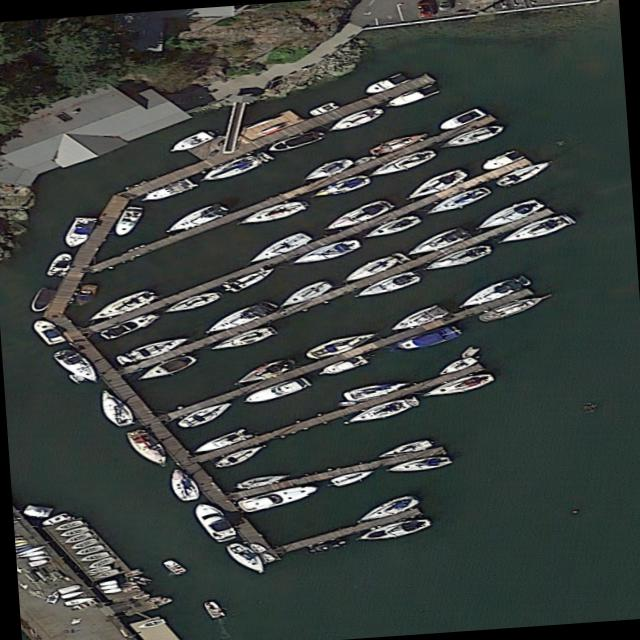ship: (194, 149, 277, 185), (452, 275, 536, 310), (339, 394, 426, 427), (318, 198, 396, 234), (198, 300, 278, 335), (79, 289, 158, 324), (496, 212, 577, 246), (471, 197, 547, 232), (112, 333, 192, 366), (302, 328, 380, 361), (476, 291, 556, 323), (236, 482, 321, 512), (399, 168, 471, 203), (364, 147, 440, 180), (417, 242, 495, 274), (354, 514, 435, 544), (420, 370, 497, 401), (289, 237, 366, 268), (422, 184, 494, 217), (351, 269, 426, 300), (160, 202, 232, 234), (400, 226, 472, 258), (339, 251, 411, 283), (207, 323, 281, 354), (390, 324, 465, 354), (88, 387, 142, 428), (243, 232, 314, 263), (228, 357, 301, 387), (188, 501, 241, 542), (239, 375, 311, 405), (350, 494, 423, 523), (133, 352, 202, 382), (235, 200, 308, 228), (50, 347, 103, 385), (96, 311, 163, 341), (120, 428, 174, 465), (172, 400, 240, 429), (320, 105, 388, 134), (438, 122, 507, 150), (493, 158, 557, 188), (220, 541, 274, 576), (188, 427, 255, 455), (384, 304, 451, 332), (365, 129, 431, 157), (307, 172, 373, 200), (360, 212, 423, 241), (161, 288, 226, 316), (209, 441, 273, 469), (343, 377, 412, 402), (275, 280, 337, 307), (295, 157, 357, 183), (138, 178, 198, 204), (222, 266, 280, 292), (384, 454, 454, 475), (164, 467, 203, 503), (265, 130, 326, 153), (385, 84, 442, 108), (231, 470, 294, 491), (58, 216, 99, 248), (374, 439, 435, 460), (162, 131, 215, 155), (435, 108, 487, 132), (26, 318, 69, 346), (360, 72, 412, 95), (317, 355, 370, 377), (476, 149, 526, 172), (109, 207, 146, 235), (434, 355, 478, 377), (328, 468, 378, 487), (25, 287, 60, 312), (43, 252, 75, 277), (72, 284, 98, 305), (38, 511, 72, 527), (159, 558, 189, 576), (200, 600, 226, 619), (307, 102, 342, 116), (73, 543, 107, 557), (68, 537, 101, 551), (86, 555, 118, 569), (57, 525, 91, 538), (63, 531, 94, 545), (52, 519, 85, 532), (79, 550, 111, 562), (93, 567, 122, 580), (137, 617, 166, 630), (16, 544, 47, 556), (63, 595, 95, 606), (84, 564, 113, 576), (57, 583, 84, 594), (127, 575, 154, 586), (60, 589, 87, 599), (459, 346, 481, 358), (247, 542, 268, 553), (122, 568, 144, 578), (352, 156, 374, 166), (18, 550, 44, 558), (129, 591, 151, 600), (27, 558, 49, 567), (121, 584, 141, 593), (260, 552, 277, 562), (44, 593, 59, 604), (100, 583, 119, 591), (102, 587, 122, 594), (29, 554, 49, 561), (98, 579, 117, 586), (337, 401, 357, 407)
small-vehicle: (418, 0, 437, 17), (437, 0, 453, 10)
